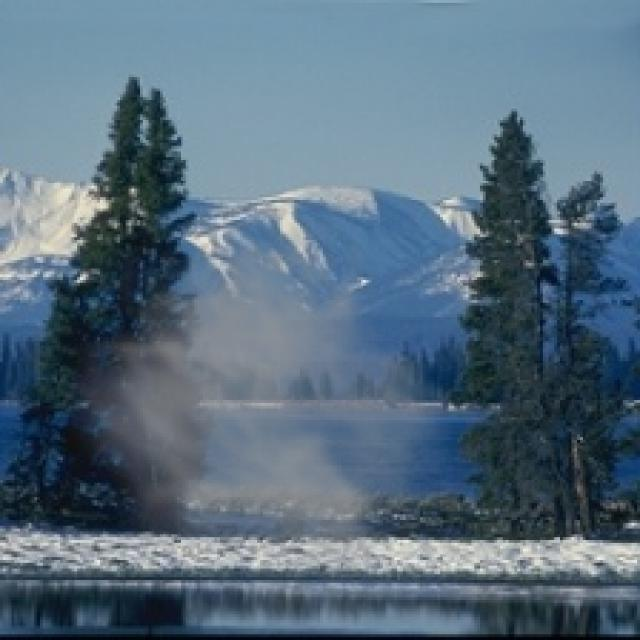smoke: (54, 203, 469, 571)
